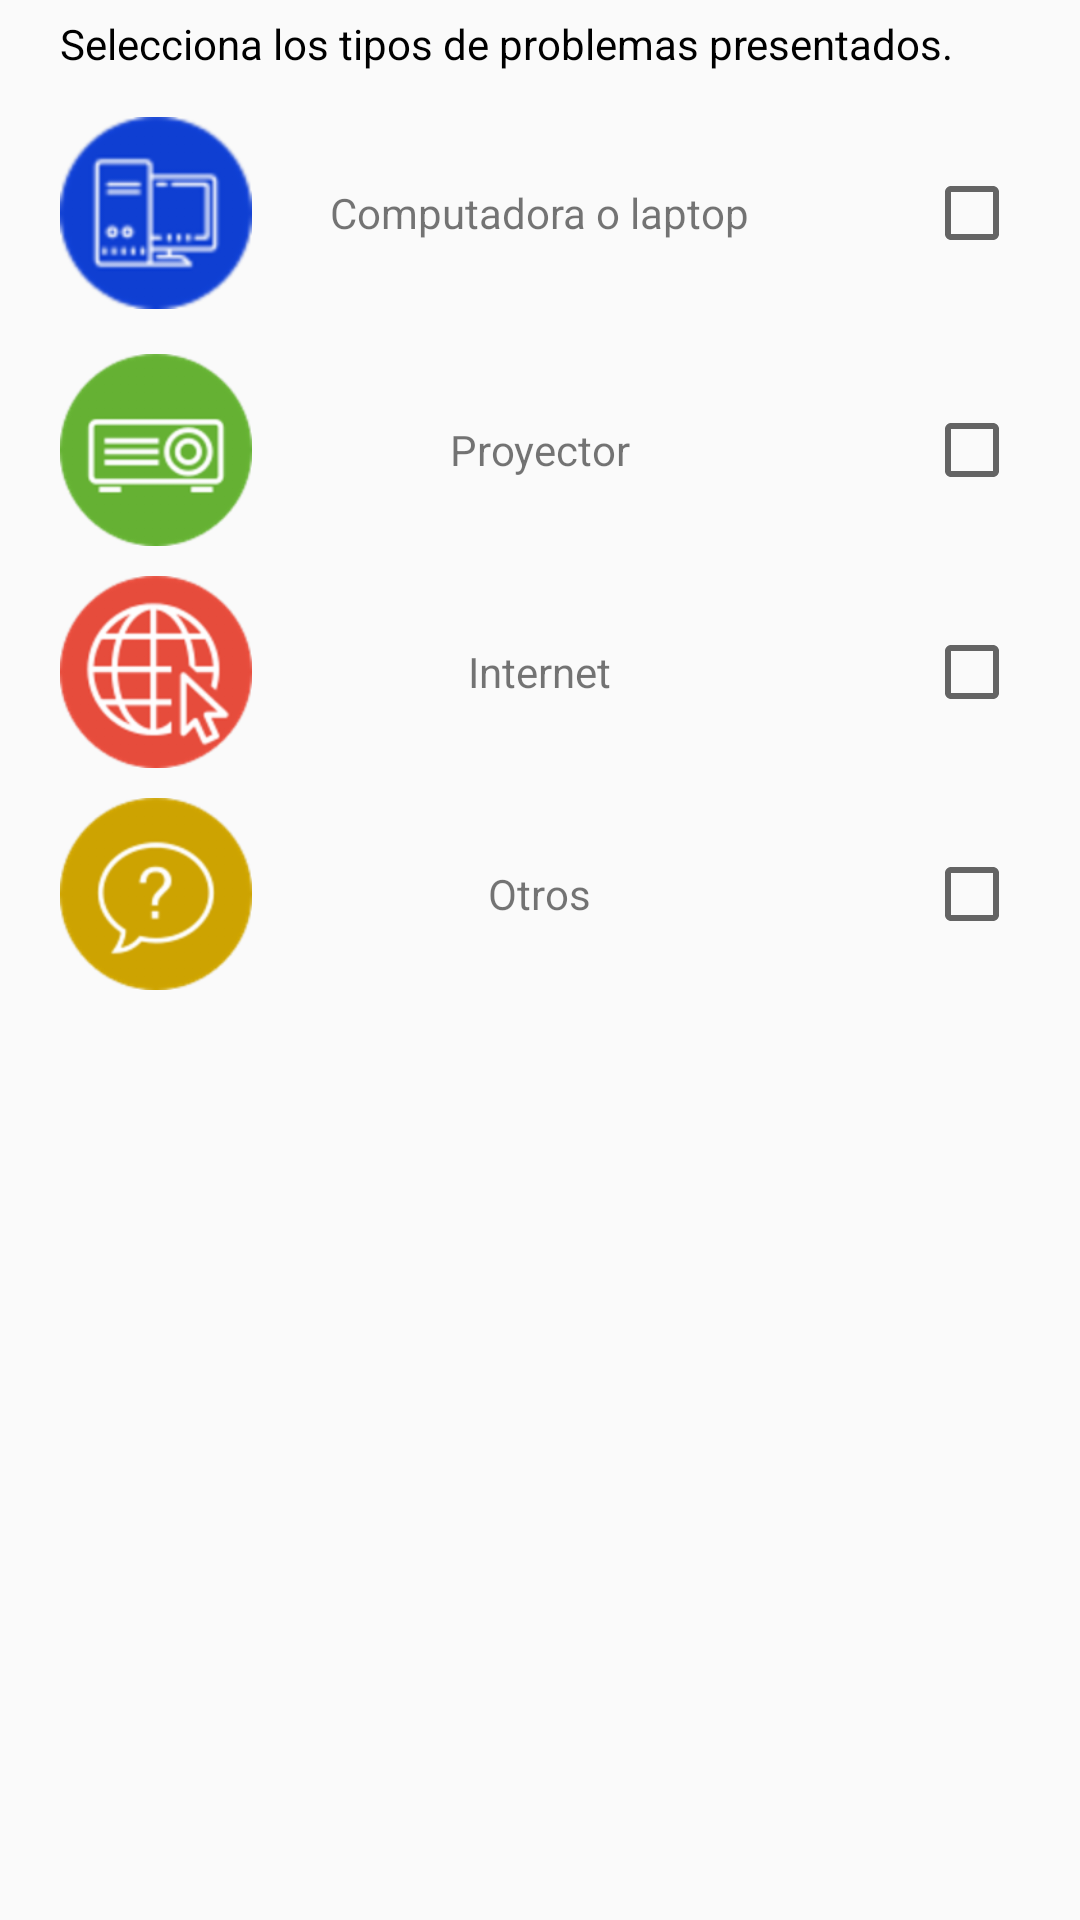

Point at icon controls on the screen. Image size 1080 × 1920, points as point (x, y).
support internet: point (156, 672)
support other: point (156, 894)
support pc: point (156, 213)
support projector: point (156, 450)
